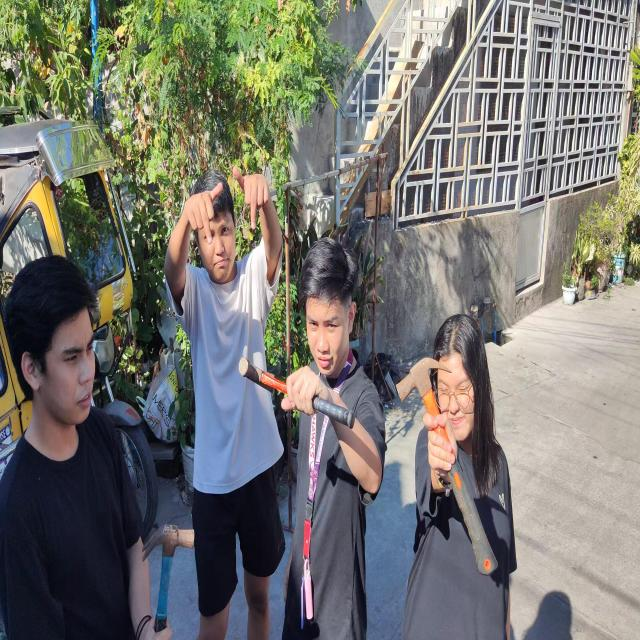hammer: (396, 356, 498, 575), (239, 356, 355, 429), (142, 524, 195, 632)
